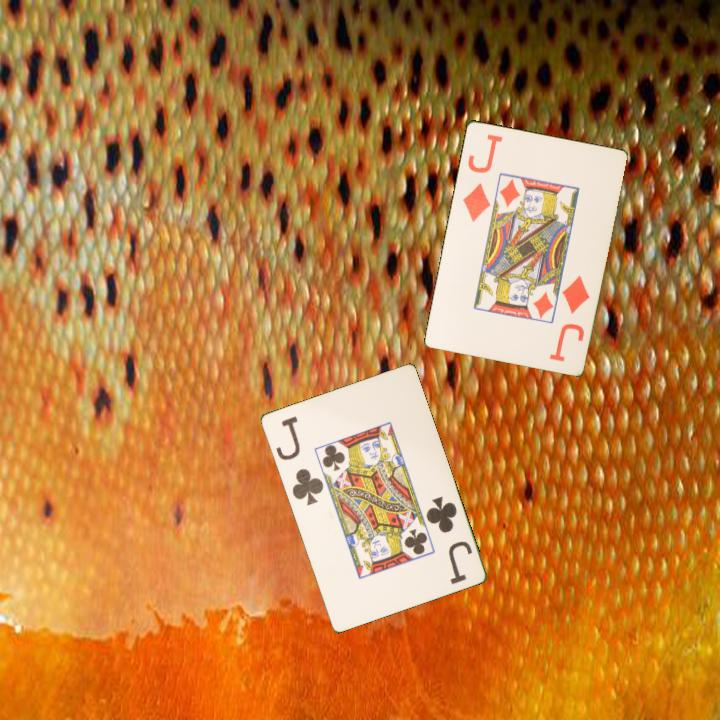Jc: (272, 412, 326, 508), (422, 492, 475, 587)
Jd: (545, 271, 593, 364), (459, 130, 505, 225)
